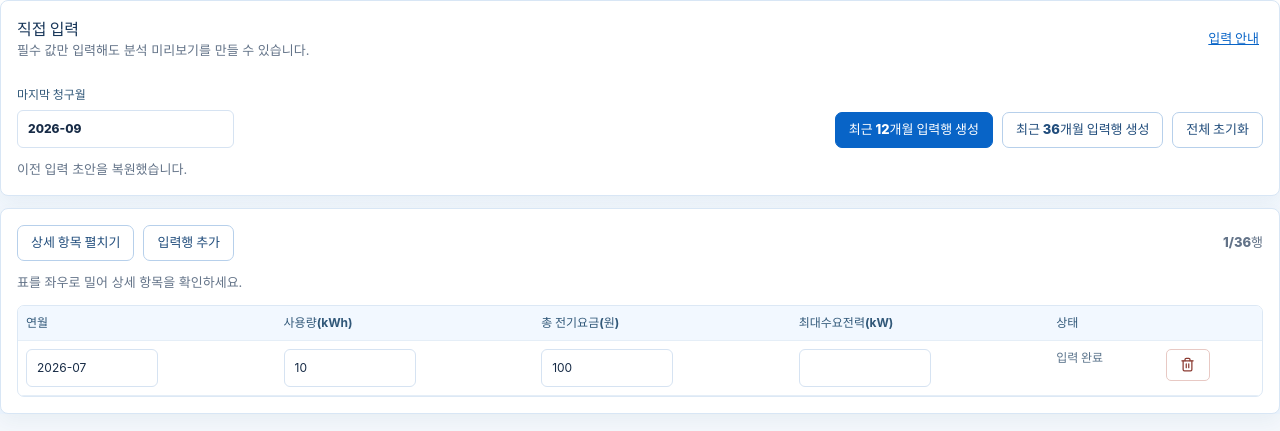
Scenario: ManualBillInput › retains rows and reports a failed reset removal
Click the button "전체 초기화" at coordinates (1218, 130), box x1=1172 y1=112 x2=1263 y2=148
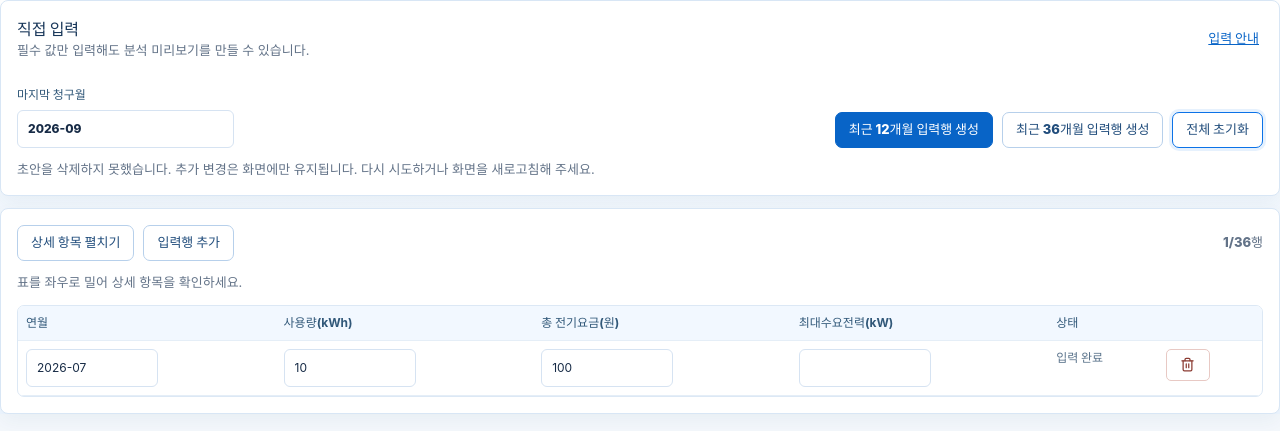
Expected: the field named "2026-07 사용량(kWh)" is shown, x1=284 y1=348 x2=416 y2=386
Result: the text "초안을 삭제하지 못했습니다. 추가 변경은 화면에만 유지됩니다. 다시 시도하거나 화면을 새로고침해 주세요." is shown at x1=17 y1=160 x2=595 y2=176
